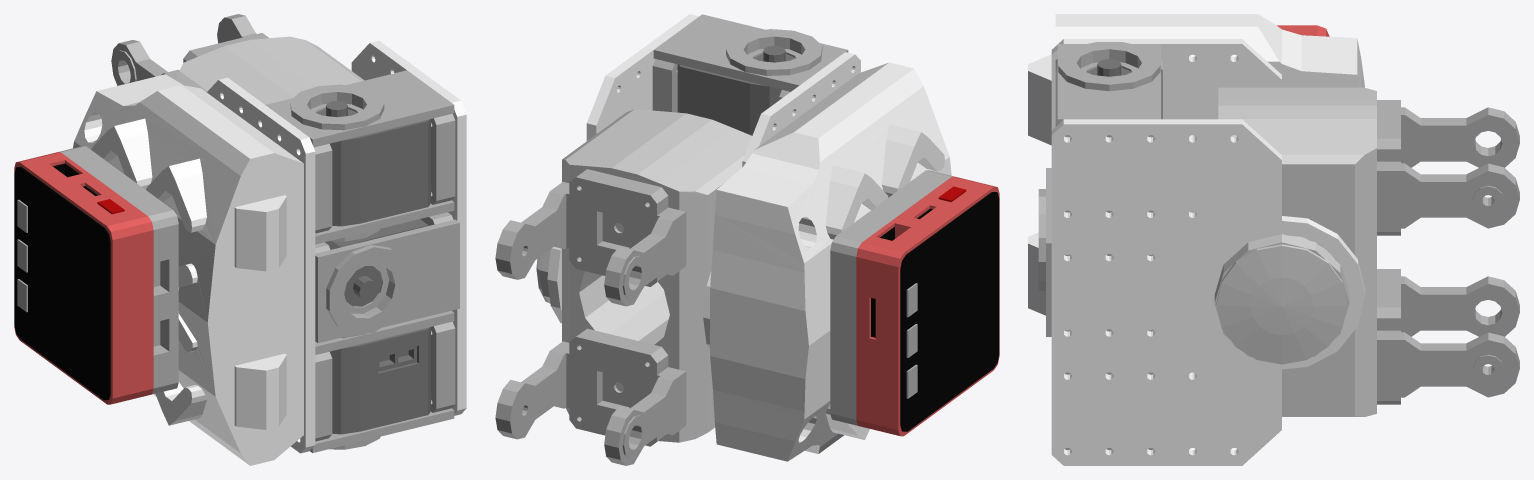
The model's file is torso-link-l2l5_mesh.glb.
3 renders of one model, left to right at view 1: azimuth 30°, elevation 25°; view 2: azimuth 150°, elevation 25°; view 3: azimuth 270°, elevation 25°, orthographic. The views are drawn at different scales.
Visible parts, largest first — view 1: base2_M1KShape3, base2_M1KShape31, base2_M1KShape20, base2_M1KShape30, base2_M1KShape9, base2_M1KShape14, base2_M1KShape10, base2_M1KShape32, base2_M1KShape1, base2_M1KShape0, base2_M1KShape2, base2_M1KShape13 (+11 smaller); view 2: base2_M1KShape3, base2_M1KShape31, base2_M1KShape8, base2_M1KShape30, base2_M1KShape0, base2_M1KShape10, base2_M1KShape32, base2_M1KShape27, base2_M1KShape24, base2_M1KShape9, base2_M1KShape29, base2_M1KShape26 (+6 smaller); view 3: base2_M1KShape2, base2_M1KShape0, base2_M1KShape3, base2_M1KShape5, base2_M1KShape8, base2_M1KShape1, base2_M1KShape28, base2_M1KShape25, base2_M1KShape10, base2_M1KShape26, base2_M1KShape29, base2_M1KShape7 (+5 smaller).
Boxes of the visible parts, bbox=[...] form: base2_M1KShape3: bbox=[73, 74, 303, 465]; base2_M1KShape31: bbox=[14, 163, 110, 400]; base2_M1KShape20: bbox=[315, 219, 459, 343]; base2_M1KShape30: bbox=[14, 152, 153, 404]; base2_M1KShape9: bbox=[317, 101, 430, 226]; base2_M1KShape14: bbox=[330, 327, 430, 434]; base2_M1KShape10: bbox=[265, 70, 454, 147]; base2_M1KShape32: bbox=[57, 146, 178, 394]; base2_M1KShape1: bbox=[207, 77, 315, 453]; base2_M1KShape0: bbox=[181, 46, 364, 104]; base2_M1KShape2: bbox=[351, 40, 466, 415]; base2_M1KShape13: bbox=[431, 113, 455, 204]; base2_M1KShape3: bbox=[710, 62, 951, 461]; base2_M1KShape31: bbox=[871, 192, 999, 431]; base2_M1KShape8: bbox=[562, 153, 712, 442]; base2_M1KShape30: bbox=[856, 176, 999, 436]; base2_M1KShape0: bbox=[567, 109, 751, 428]; base2_M1KShape10: bbox=[653, 14, 848, 91]; base2_M1KShape32: bbox=[830, 170, 953, 425]; base2_M1KShape27: bbox=[569, 328, 668, 446]; base2_M1KShape24: bbox=[569, 169, 668, 286]; base2_M1KShape9: bbox=[677, 46, 794, 135]; base2_M1KShape29: bbox=[604, 367, 686, 465]; base2_M1KShape26: bbox=[604, 207, 686, 306]; base2_M1KShape2: bbox=[1051, 119, 1281, 465]; base2_M1KShape0: bbox=[1218, 87, 1345, 416]; base2_M1KShape3: bbox=[1028, 14, 1364, 315]; base2_M1KShape5: bbox=[1216, 244, 1347, 364]; base2_M1KShape8: bbox=[1345, 87, 1376, 416]; base2_M1KShape1: bbox=[1051, 39, 1281, 374]; base2_M1KShape28: bbox=[1377, 330, 1519, 397]; base2_M1KShape25: bbox=[1377, 161, 1519, 228]; base2_M1KShape10: bbox=[1057, 42, 1160, 124]; base2_M1KShape26: bbox=[1401, 107, 1519, 167]; base2_M1KShape29: bbox=[1401, 276, 1519, 336]; base2_M1KShape7: bbox=[1282, 216, 1365, 369].
Bounding box in the file's own units: 0.111 × 0.0986 × 0.124.
